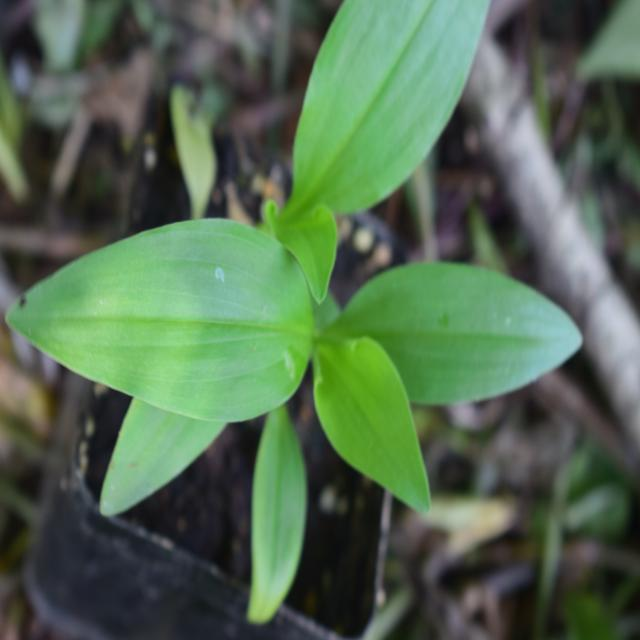Common Dayflower: (25, 210, 558, 515)
